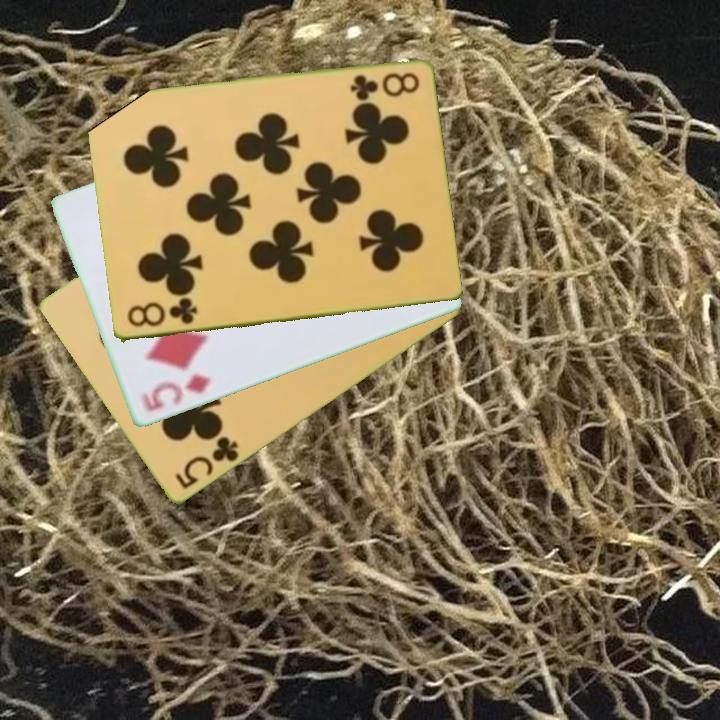5c: (171, 433, 242, 493)
5d: (137, 370, 214, 415)
8c: (123, 296, 200, 331), (346, 69, 422, 102)
